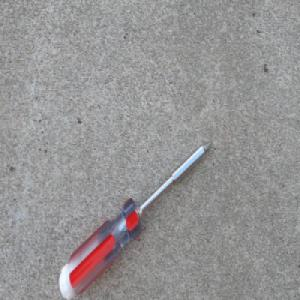Screwdriver: (57, 137, 212, 300)
